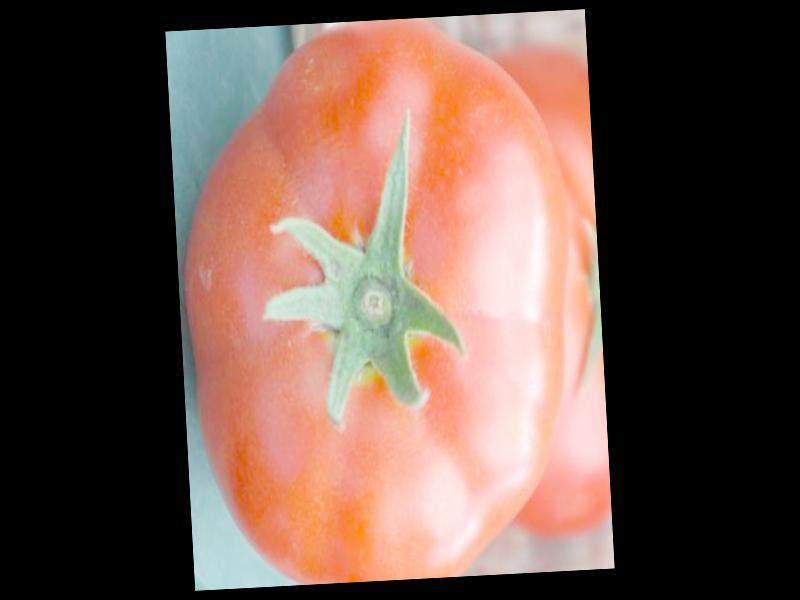Tomato: (173, 10, 586, 588)
